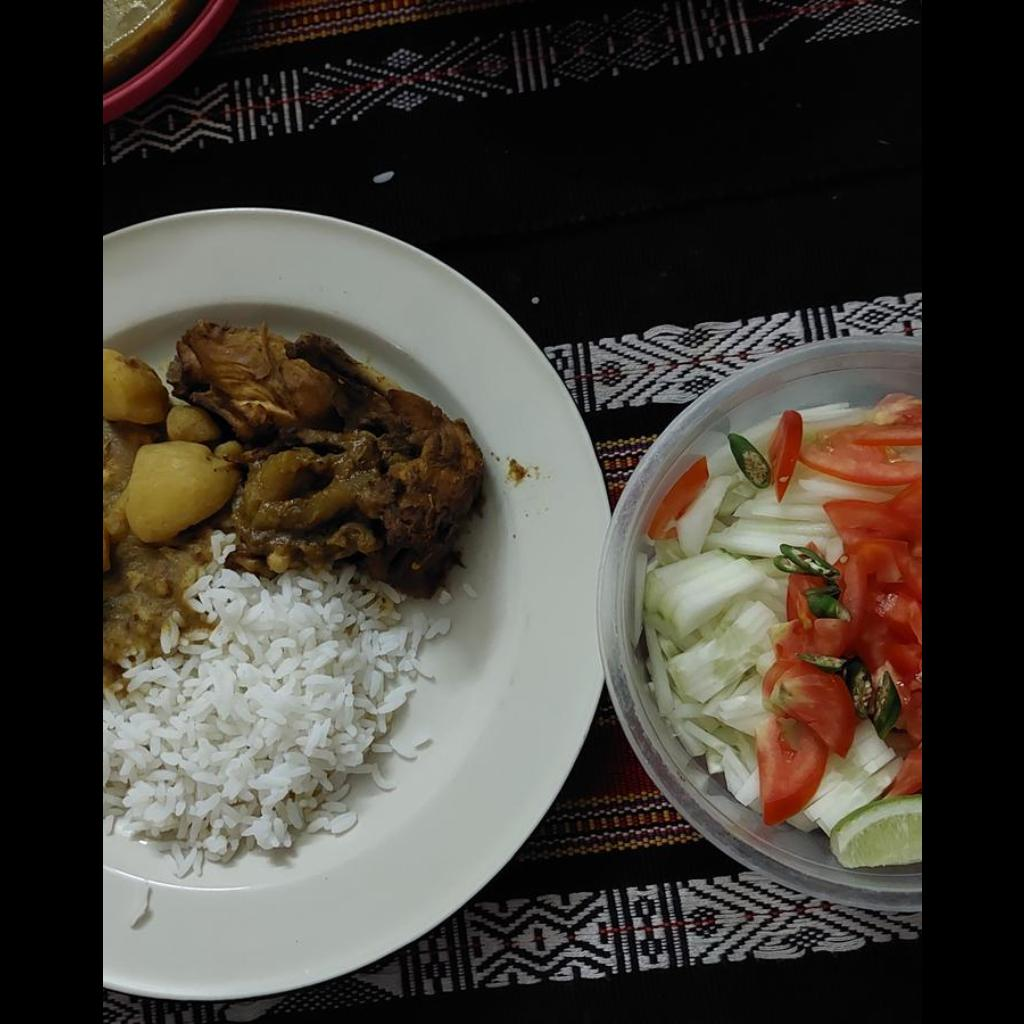chicken: (164, 329, 482, 579)
potato: (102, 348, 239, 572)
rice: (102, 532, 446, 875)
salad: (638, 400, 920, 862)
